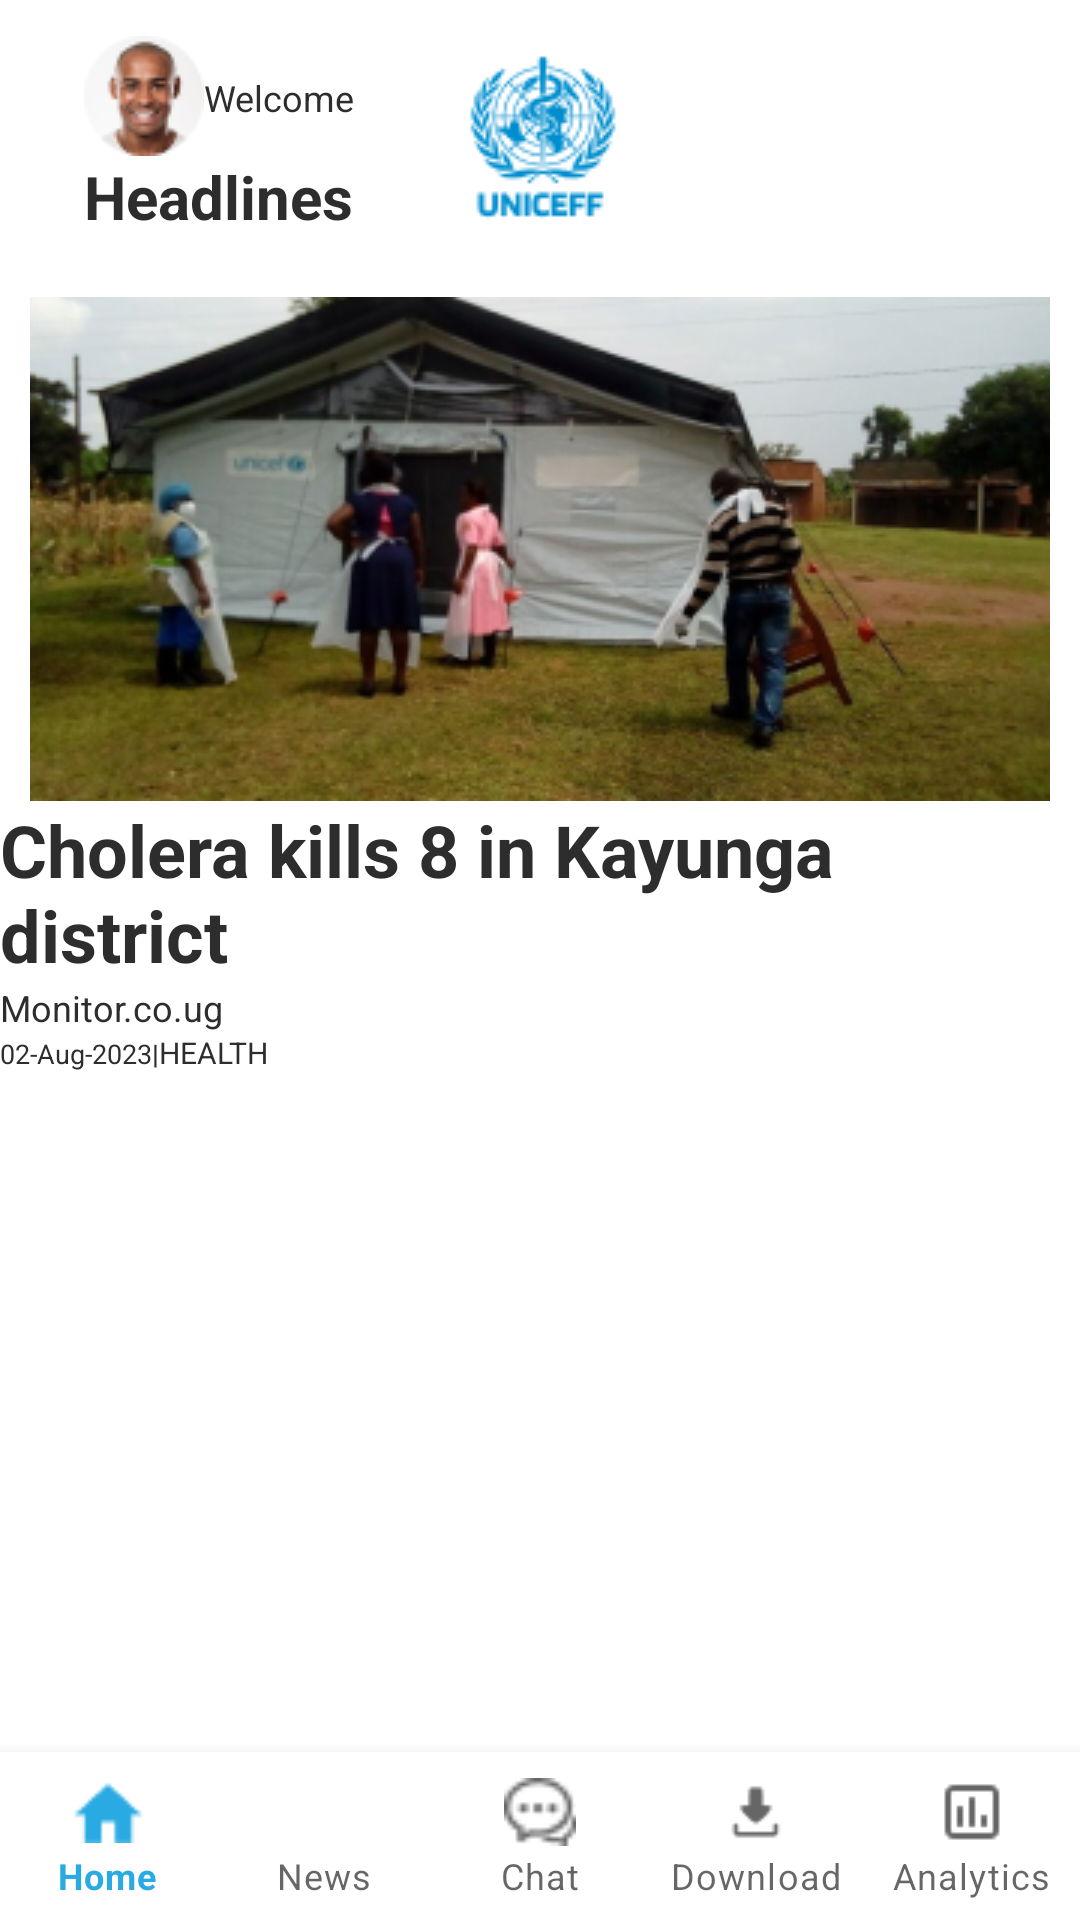

Icon click points for this 1080*1920 phone screenshot, format [x,y]:
profile: [144,98]
